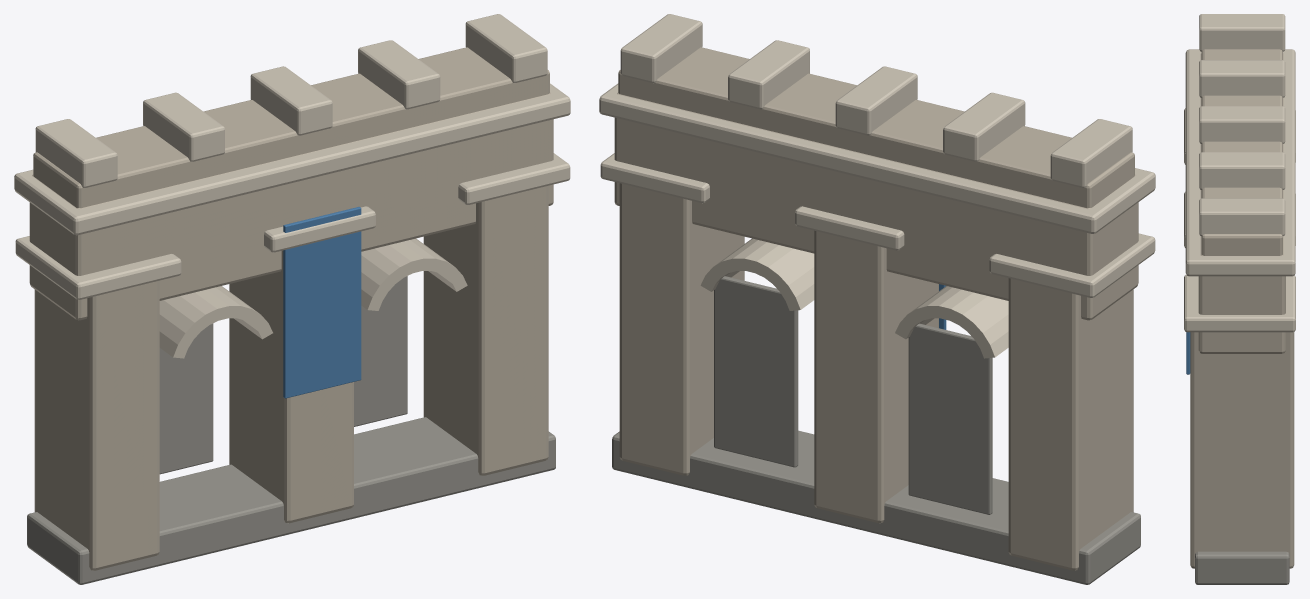
Rendered from CivicRetainingBay.glb.
The picture shows the model from 3 angles, left to right: view 1: azimuth 30°, elevation 25°; view 2: azimuth 150°, elevation 25°; view 3: azimuth 270°, elevation 25°; orthographic projection. The views are drawn at different scales.
Parts seen in each view (by area): view 1: Civic Retaining Bay upper spandrel, Civic Retaining Bay buttress 0, Civic Retaining Bay buttress 2, Civic Retaining Bay foundation, Civic Retaining Bay parapet, Civic Retaining Bay buttress 1, Civic Retaining Bay cornice, Civic Retaining Bay civic banner, Civic Retaining Bay recessed shadow 0, Civic Retaining Bay recessed shadow 1, Civic Retaining Bay buttress cap 0, Civic Retaining Bay parapet merlon 2 (+6 smaller); view 2: Civic Retaining Bay upper spandrel, Civic Retaining Bay buttress 0, Civic Retaining Bay buttress 2, Civic Retaining Bay buttress 1, Civic Retaining Bay parapet, Civic Retaining Bay foundation, Civic Retaining Bay recessed shadow 0, Civic Retaining Bay recessed shadow 1, Civic Retaining Bay cornice, Civic Retaining Bay buttress cap 0, Civic Retaining Bay parapet merlon 0, Civic Retaining Bay parapet merlon 1 (+5 smaller); view 3: Civic Retaining Bay buttress 2, Civic Retaining Bay cornice, Civic Retaining Bay parapet, Civic Retaining Bay upper spandrel, Civic Retaining Bay foundation, Civic Retaining Bay parapet merlon 3, Civic Retaining Bay parapet merlon 1, Civic Retaining Bay parapet merlon 2, Civic Retaining Bay parapet merlon 0, Civic Retaining Bay parapet merlon 4, Civic Retaining Bay buttress cap 2, Civic Retaining Bay civic banner.
Part boxes in pixels (x1,y1,x2,y2): Civic Retaining Bay upper spandrel: (29, 92, 553, 320); Civic Retaining Bay buttress 0: (34, 280, 159, 570); Civic Retaining Bay buttress 2: (423, 185, 548, 475); Civic Retaining Bay foundation: (27, 417, 555, 584); Civic Retaining Bay parapet: (33, 47, 549, 208); Civic Retaining Bay buttress 1: (229, 250, 353, 523); Civic Retaining Bay cornice: (14, 83, 570, 235); Civic Retaining Bay civic banner: (283, 206, 361, 398); Civic Retaining Bay recessed shadow 0: (159, 323, 213, 474); Civic Retaining Bay recessed shadow 1: (354, 276, 407, 426); Civic Retaining Bay buttress cap 0: (15, 236, 181, 299); Civic Retaining Bay parapet merlon 2: (250, 66, 332, 135); Civic Retaining Bay upper spandrel: (614, 93, 1138, 320); Civic Retaining Bay buttress 0: (1008, 278, 1133, 570); Civic Retaining Bay buttress 2: (619, 183, 744, 475); Civic Retaining Bay buttress 1: (814, 230, 938, 523); Civic Retaining Bay parapet: (618, 47, 1134, 208); Civic Retaining Bay foundation: (612, 430, 1140, 584); Civic Retaining Bay recessed shadow 0: (908, 323, 992, 514); Civic Retaining Bay recessed shadow 1: (714, 276, 798, 467); Civic Retaining Bay cornice: (599, 83, 1155, 233); Civic Retaining Bay buttress cap 0: (989, 233, 1155, 297); Civic Retaining Bay parapet merlon 0: (1050, 119, 1132, 187); Civic Retaining Bay parapet merlon 1: (943, 92, 1025, 161); Civic Retaining Bay buttress 2: (1190, 332, 1294, 568); Civic Retaining Bay cornice: (1185, 49, 1295, 276); Civic Retaining Bay parapet: (1201, 49, 1282, 255); Civic Retaining Bay upper spandrel: (1198, 53, 1285, 353); Civic Retaining Bay foundation: (1195, 551, 1289, 584); Civic Retaining Bay parapet merlon 3: (1199, 152, 1285, 189); Civic Retaining Bay parapet merlon 1: (1199, 60, 1285, 97); Civic Retaining Bay parapet merlon 2: (1199, 106, 1285, 143); Civic Retaining Bay parapet merlon 0: (1199, 14, 1285, 51); Civic Retaining Bay parapet merlon 4: (1199, 198, 1285, 235); Civic Retaining Bay buttress cap 2: (1184, 274, 1295, 332); Civic Retaining Bay civic banner: (1186, 332, 1190, 374).
Size of the model in its own units: 6.66 by 5.4 by 1.48.
